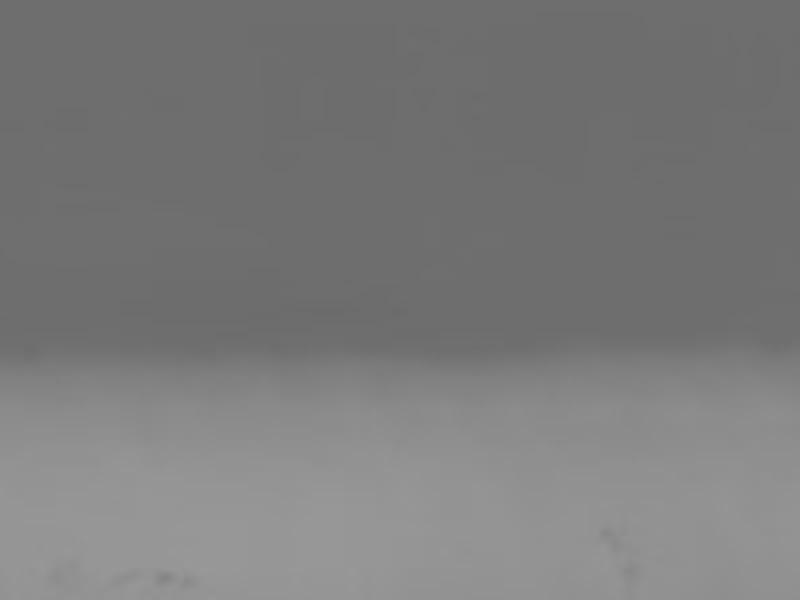defect: (618, 563, 643, 593), (601, 521, 622, 554), (110, 565, 143, 583), (153, 567, 176, 586), (44, 564, 62, 586), (177, 573, 199, 590), (64, 558, 84, 573)
